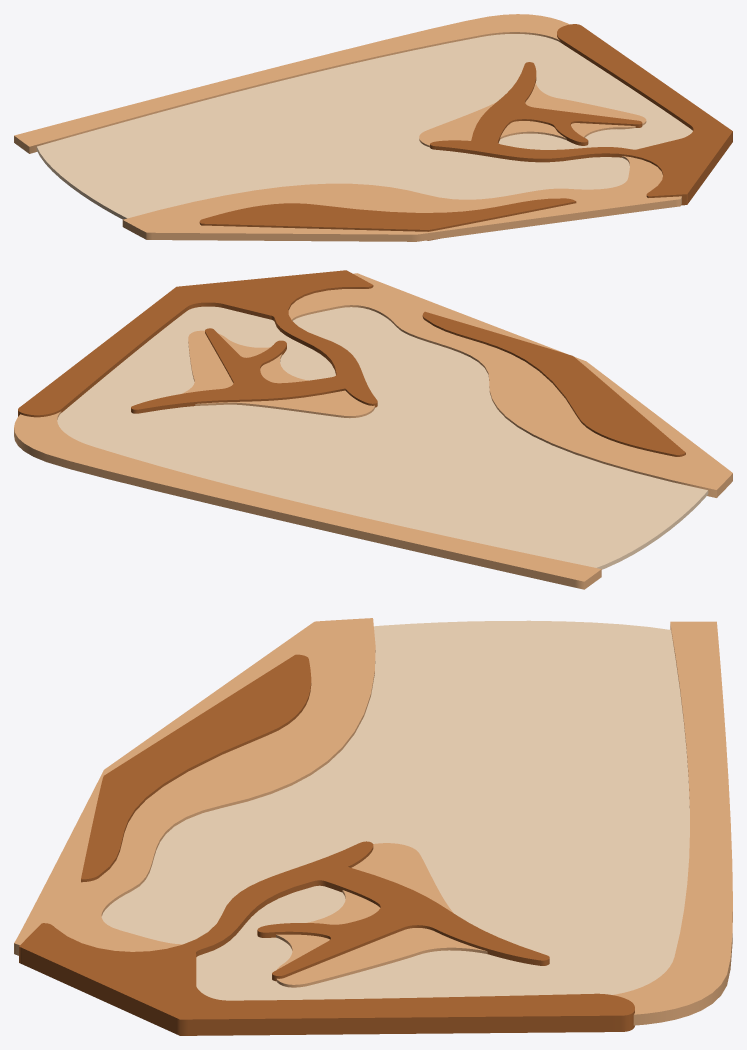
Rendered from emoji_u1f91c_1f3fb.glb.
The picture shows the model from 3 angles, top to bottom: view 1: azimuth 30°, elevation 25°; view 2: azimuth 150°, elevation 25°; view 3: azimuth 270°, elevation 25°; orthographic projection. The views are drawn at different scales.
Visible parts, largest first — view 1: emoji_u1f91c_1f3fb; view 2: emoji_u1f91c_1f3fb; view 3: emoji_u1f91c_1f3fb.
Part boxes in pixels (box(x1,y1,x2,y2)): emoji_u1f91c_1f3fb: box(14, 14, 732, 241); emoji_u1f91c_1f3fb: box(14, 270, 732, 589); emoji_u1f91c_1f3fb: box(14, 618, 732, 1035).
Size of the model in its own units: 0.0318 by 0.0006 by 0.0239.
